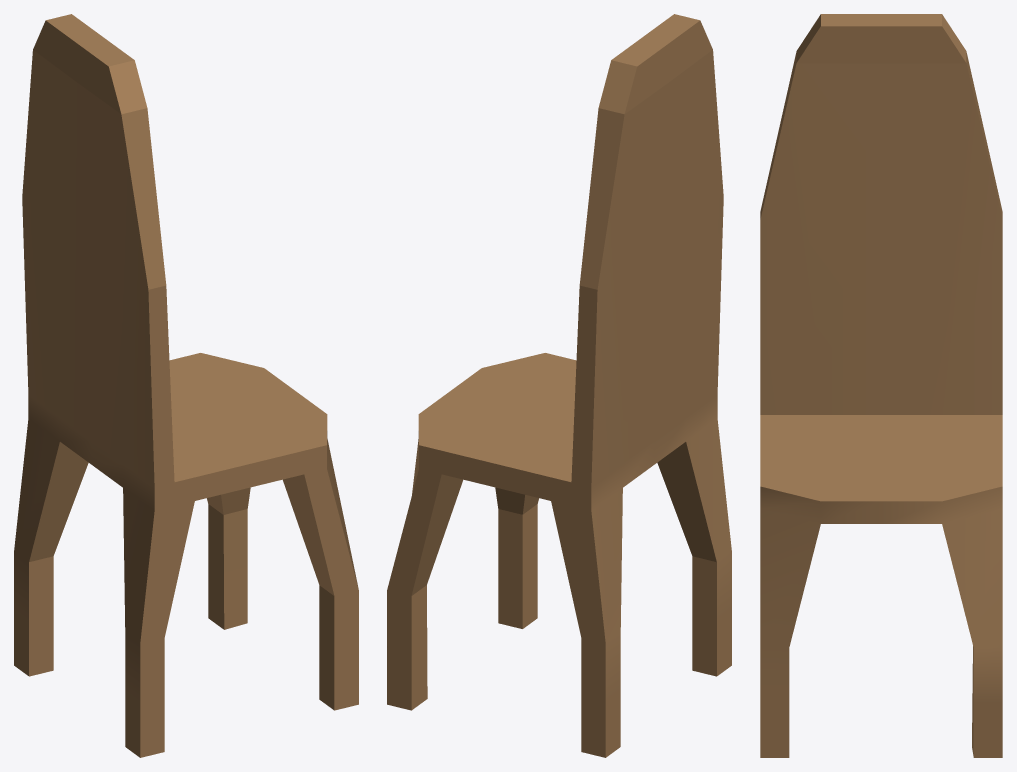
The model's file is CHAIR.fbx.
3 renders of one model, left to right at view 1: azimuth 30°, elevation 25°; view 2: azimuth 150°, elevation 25°; view 3: azimuth 270°, elevation 25°, orthographic. The views are drawn at different scales.
Visible parts, largest first — view 1: pCube1; view 2: pCube1; view 3: pCube1.
Boxes of the visible parts, x1=… form: pCube1: x1=14, y1=14, x2=358, y2=757; pCube1: x1=387, y1=14, x2=731, y2=757; pCube1: x1=760, y1=14, x2=1002, y2=757.
Bounding box in the file's own units: 2.66 × 7.77 × 2.66.
